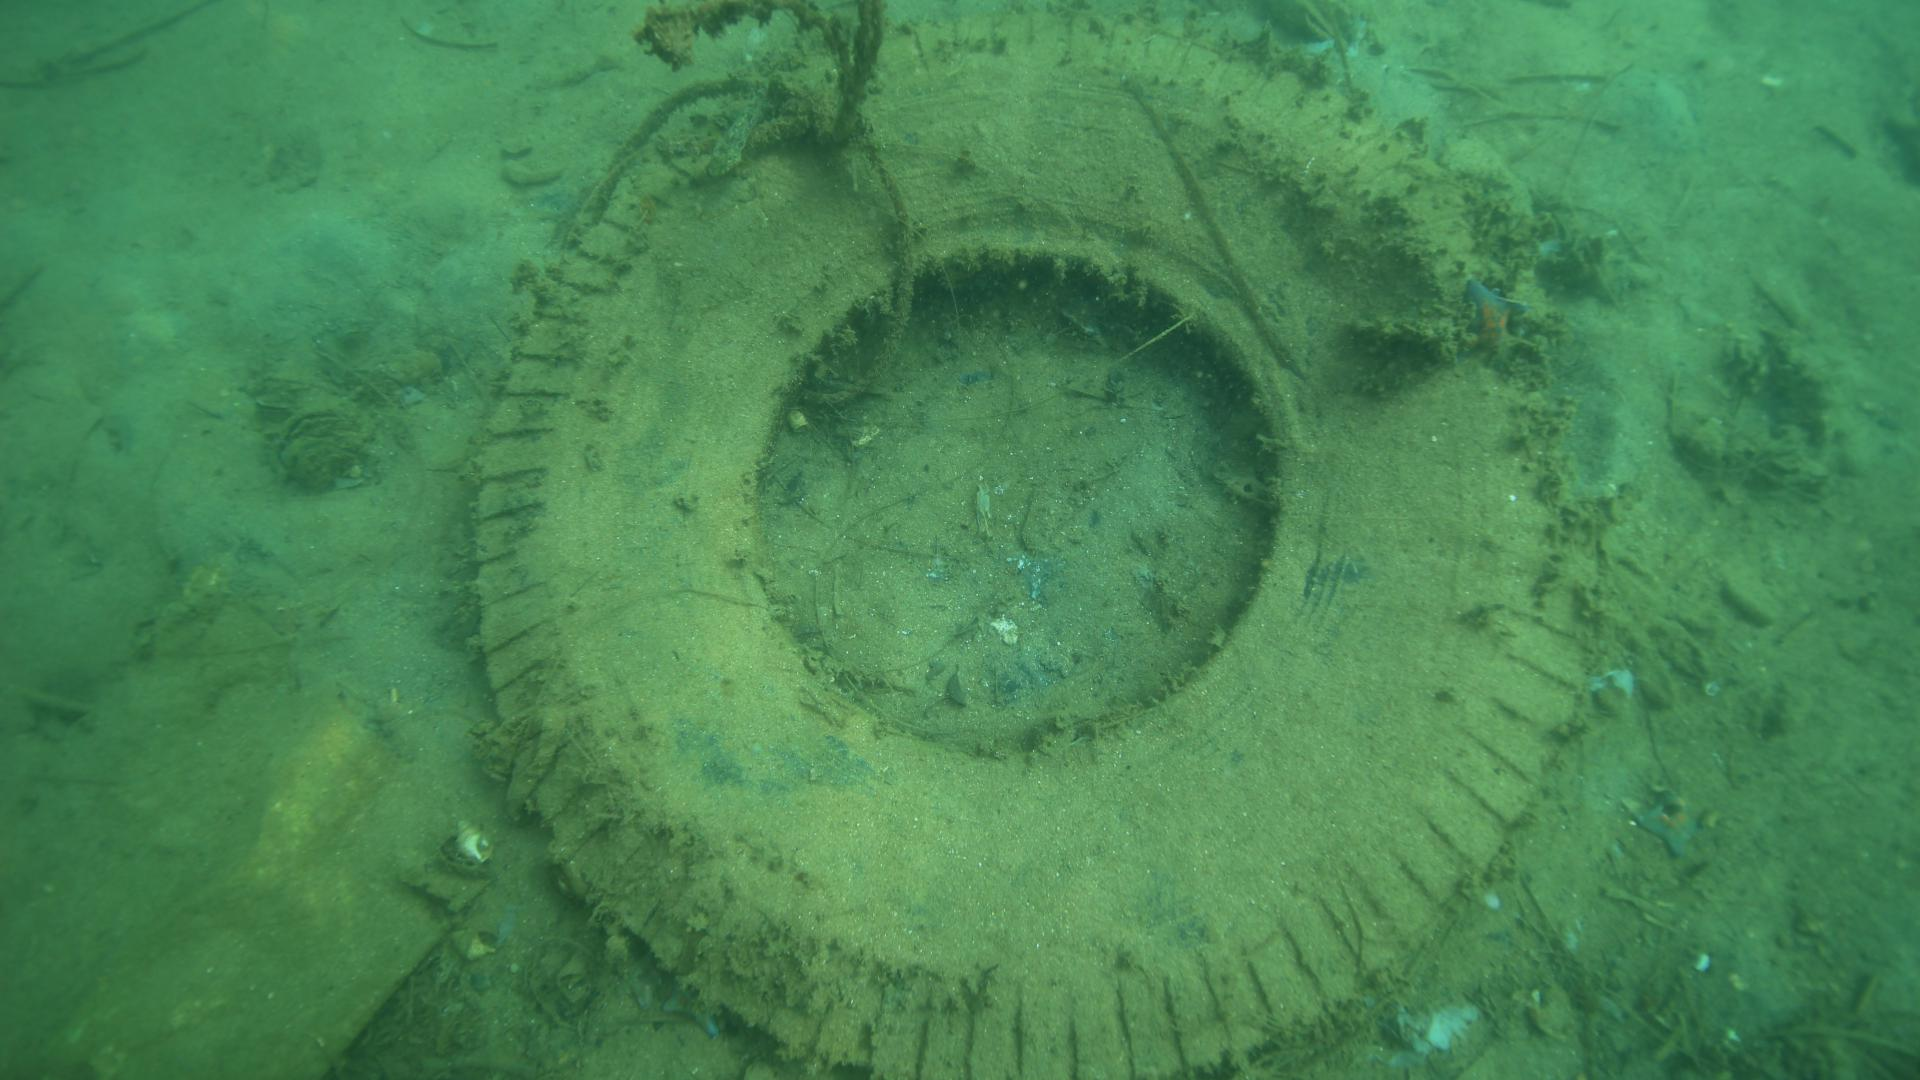tire: (467, 0, 1581, 1076)
